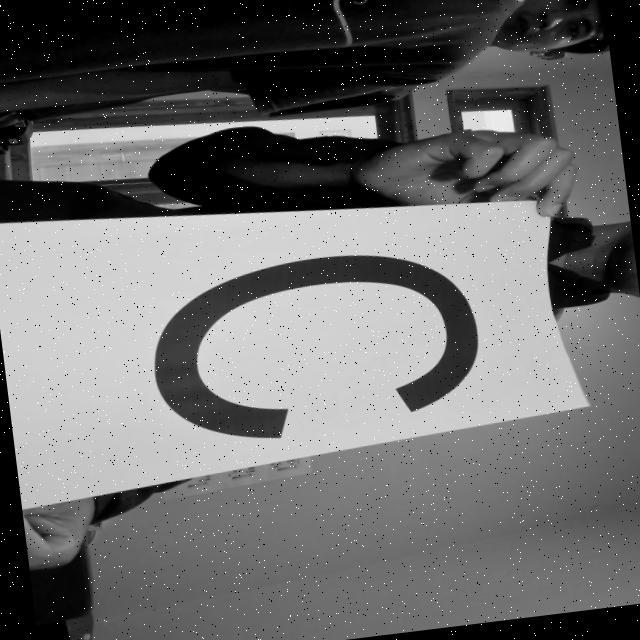c: (122, 225, 500, 458)
